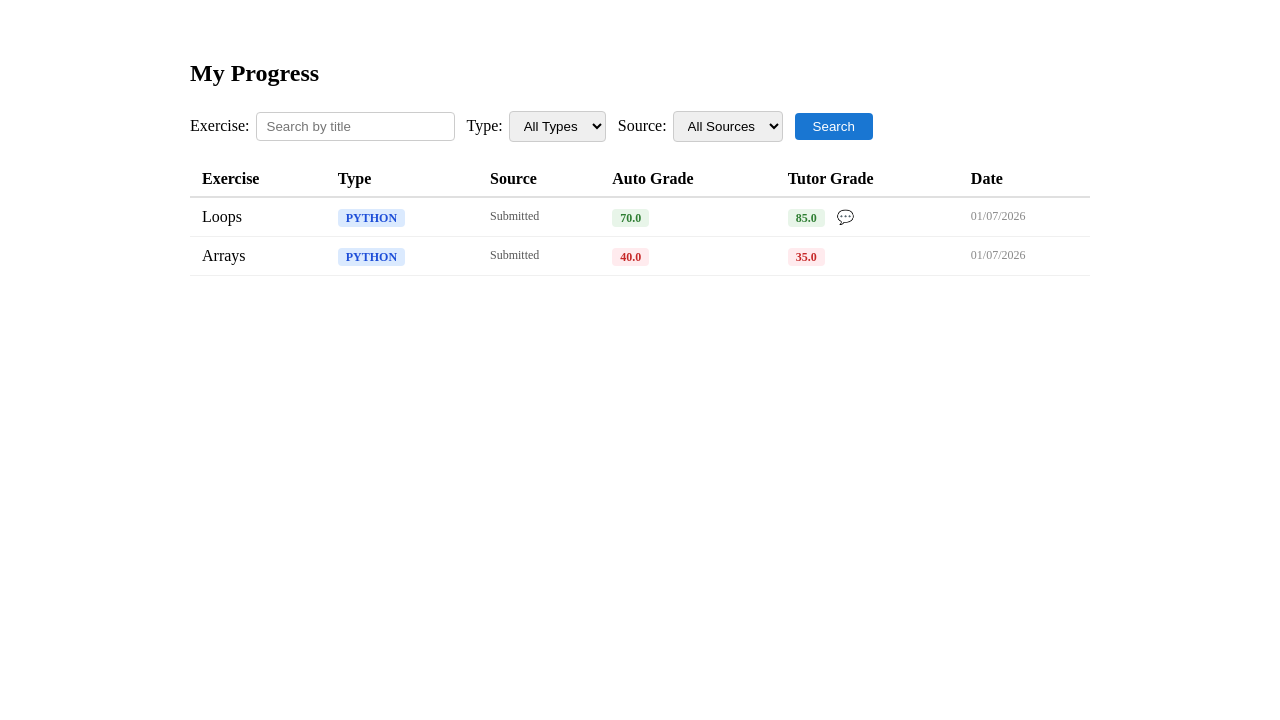
Test case: closing the tutor comment modal removes it
Click the button named "view tutor comment" at (846, 217), box [831, 208, 860, 226]
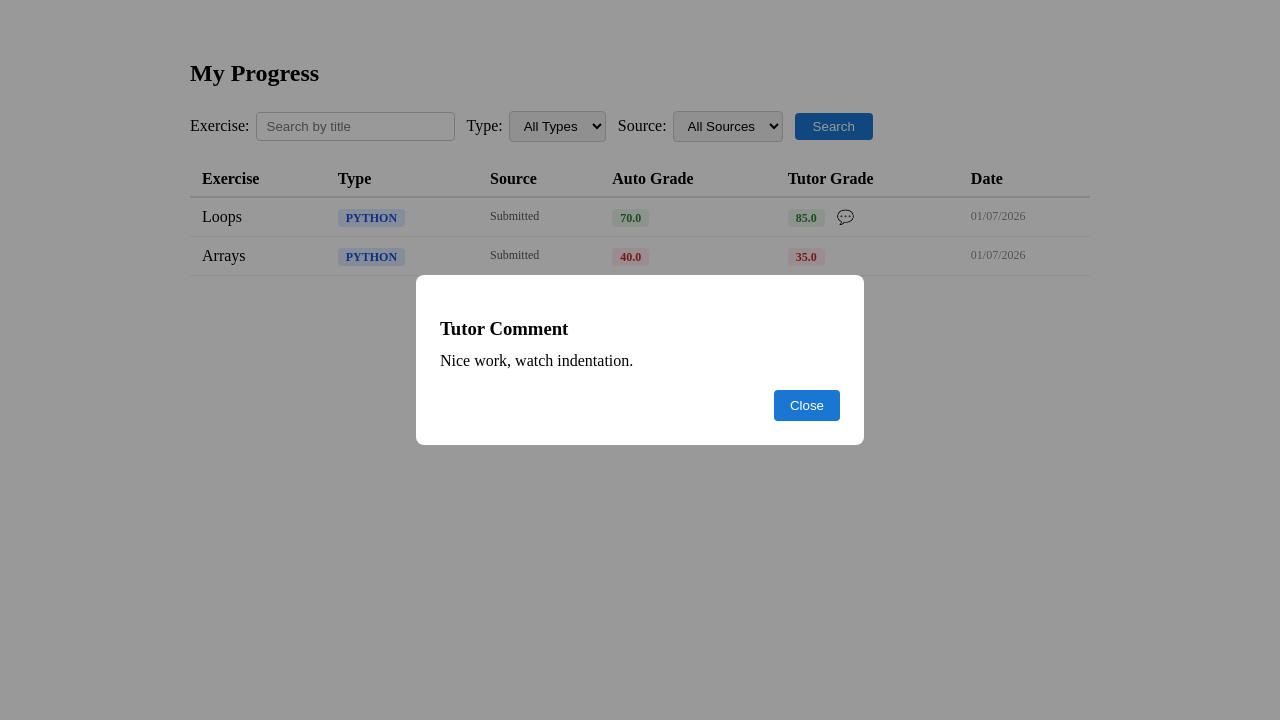
Click the button "Close" at (807, 405), box [774, 390, 840, 421]
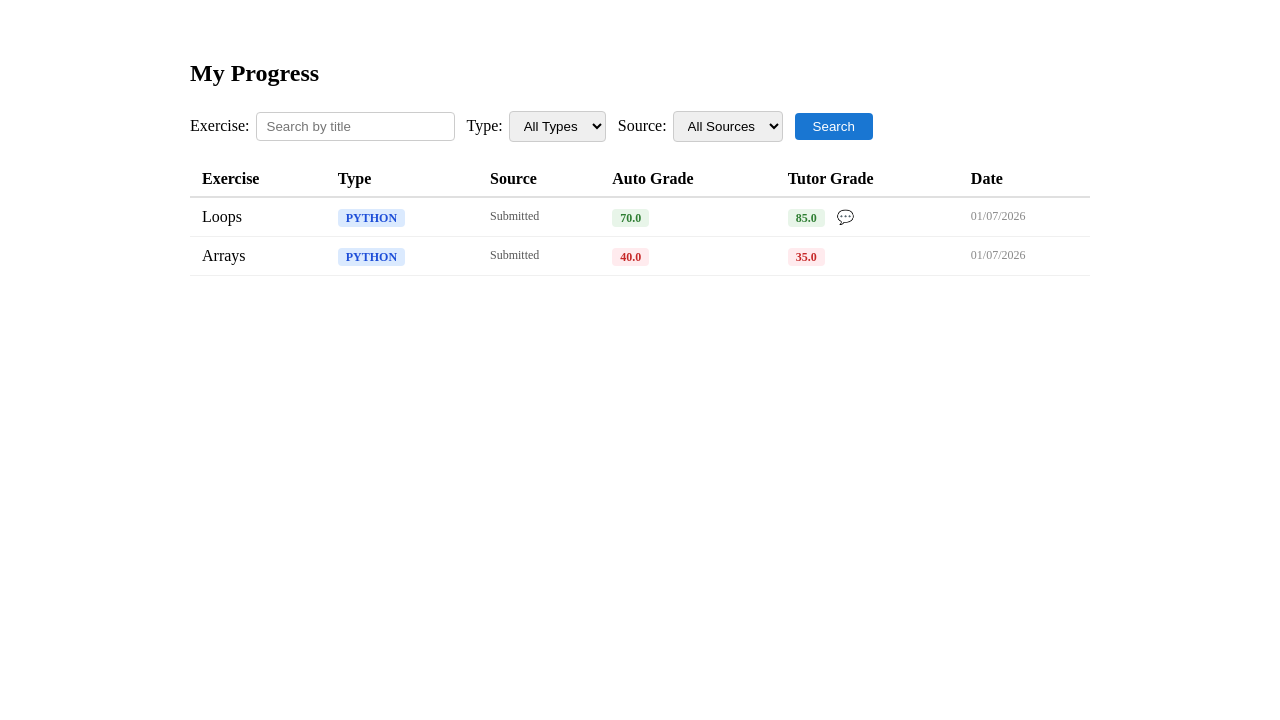
Check: the dialog is gone
